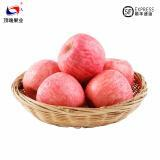apple: (59, 34, 105, 81), (84, 69, 133, 108), (36, 71, 85, 108), (22, 58, 63, 98)
